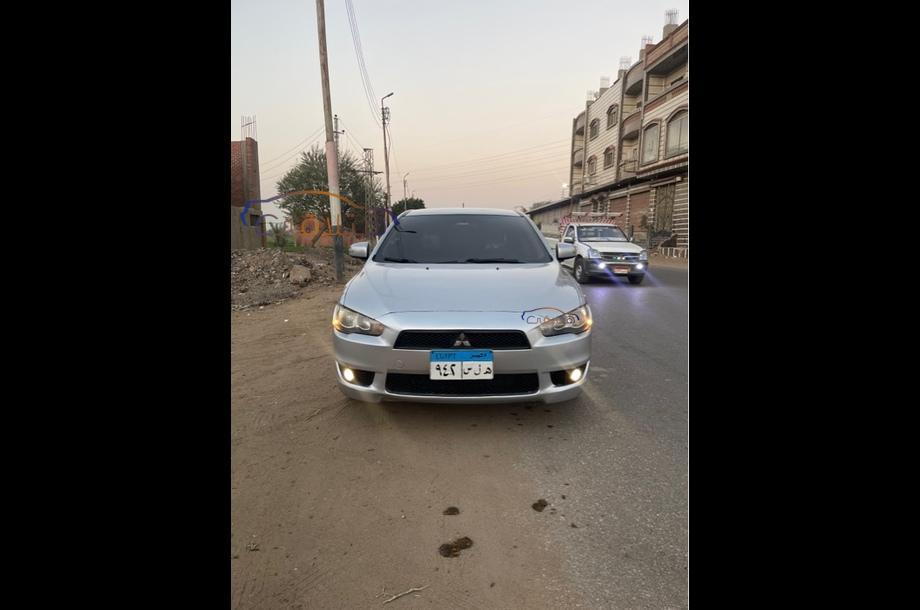Mitsubishi: (448, 329, 486, 353)
